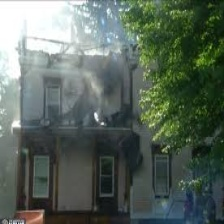smoke: (46, 24, 114, 121)
